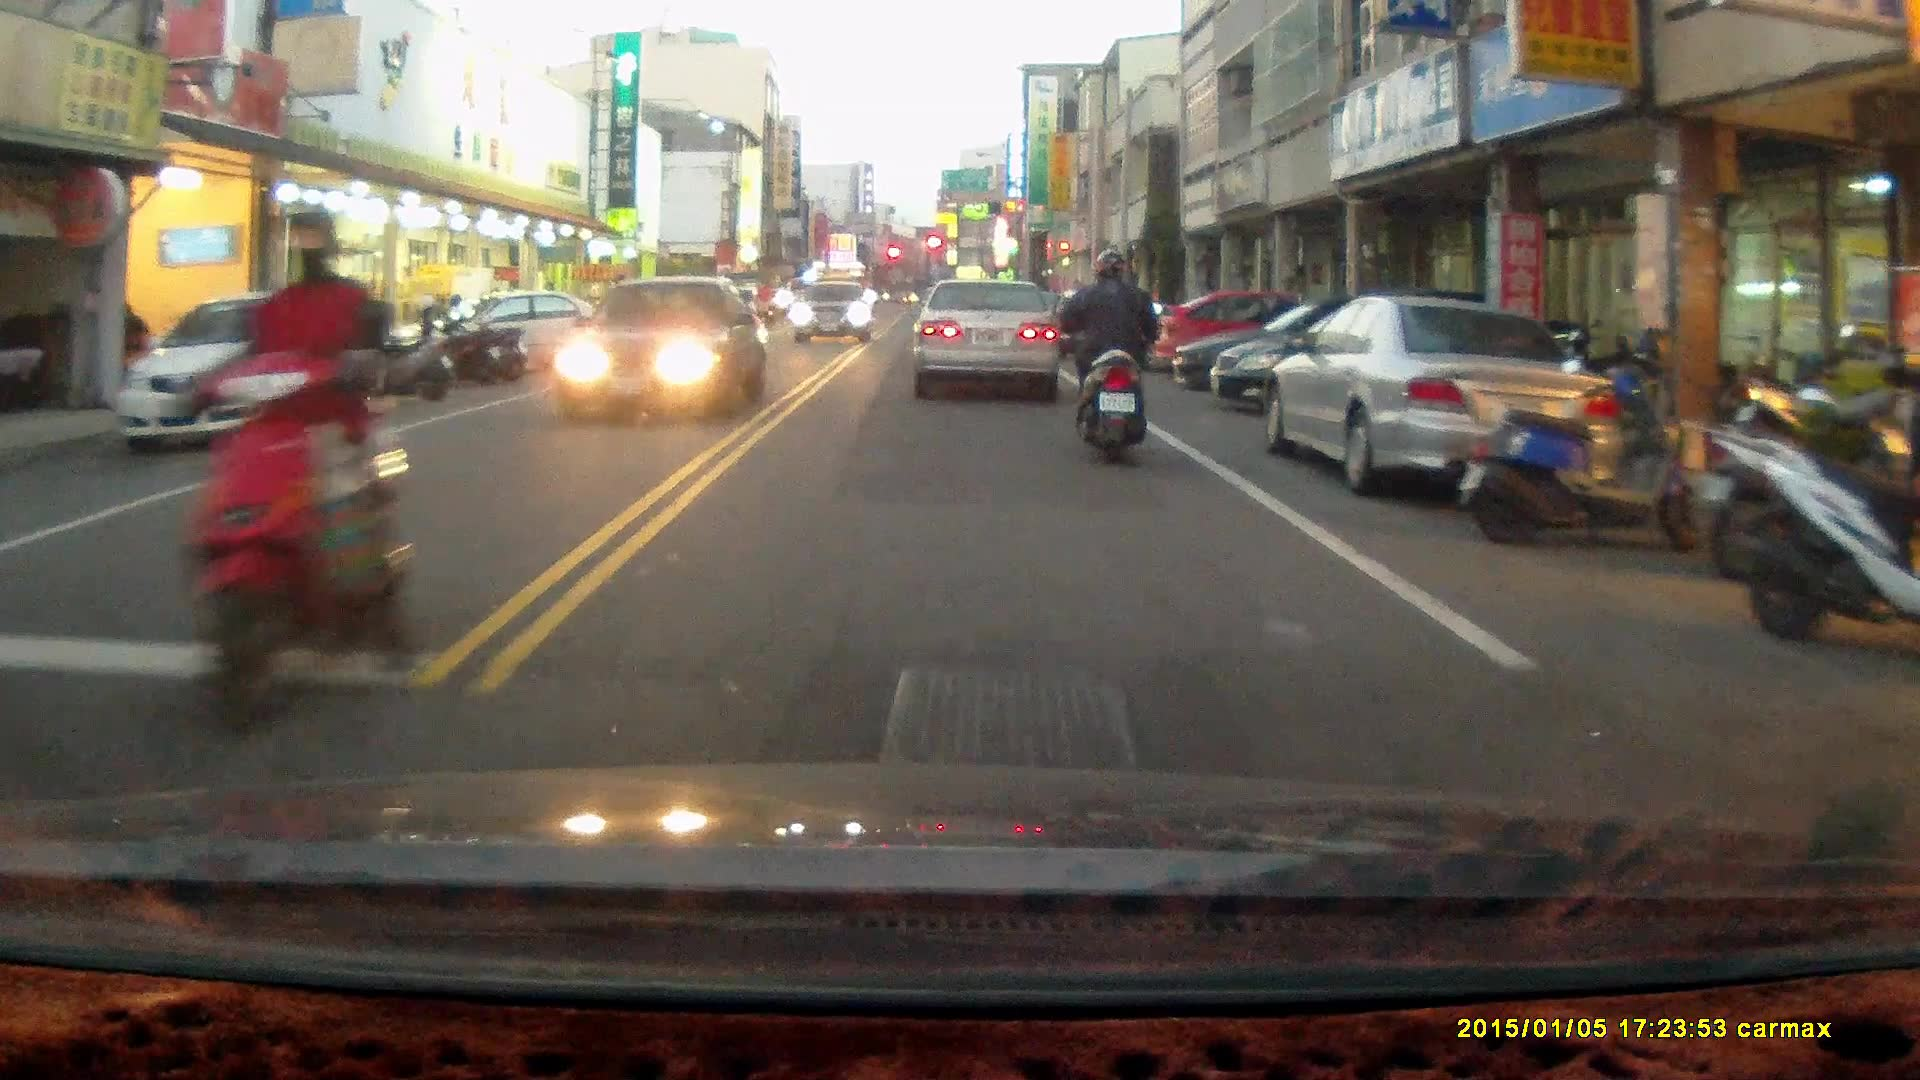rider: (173, 201, 422, 739), (1053, 246, 1166, 466)
vehicle: (1255, 294, 1620, 498), (1209, 297, 1503, 420), (558, 274, 767, 425), (1171, 308, 1470, 399), (1153, 295, 1382, 383), (908, 280, 1064, 402), (438, 292, 602, 378), (793, 284, 875, 350)
